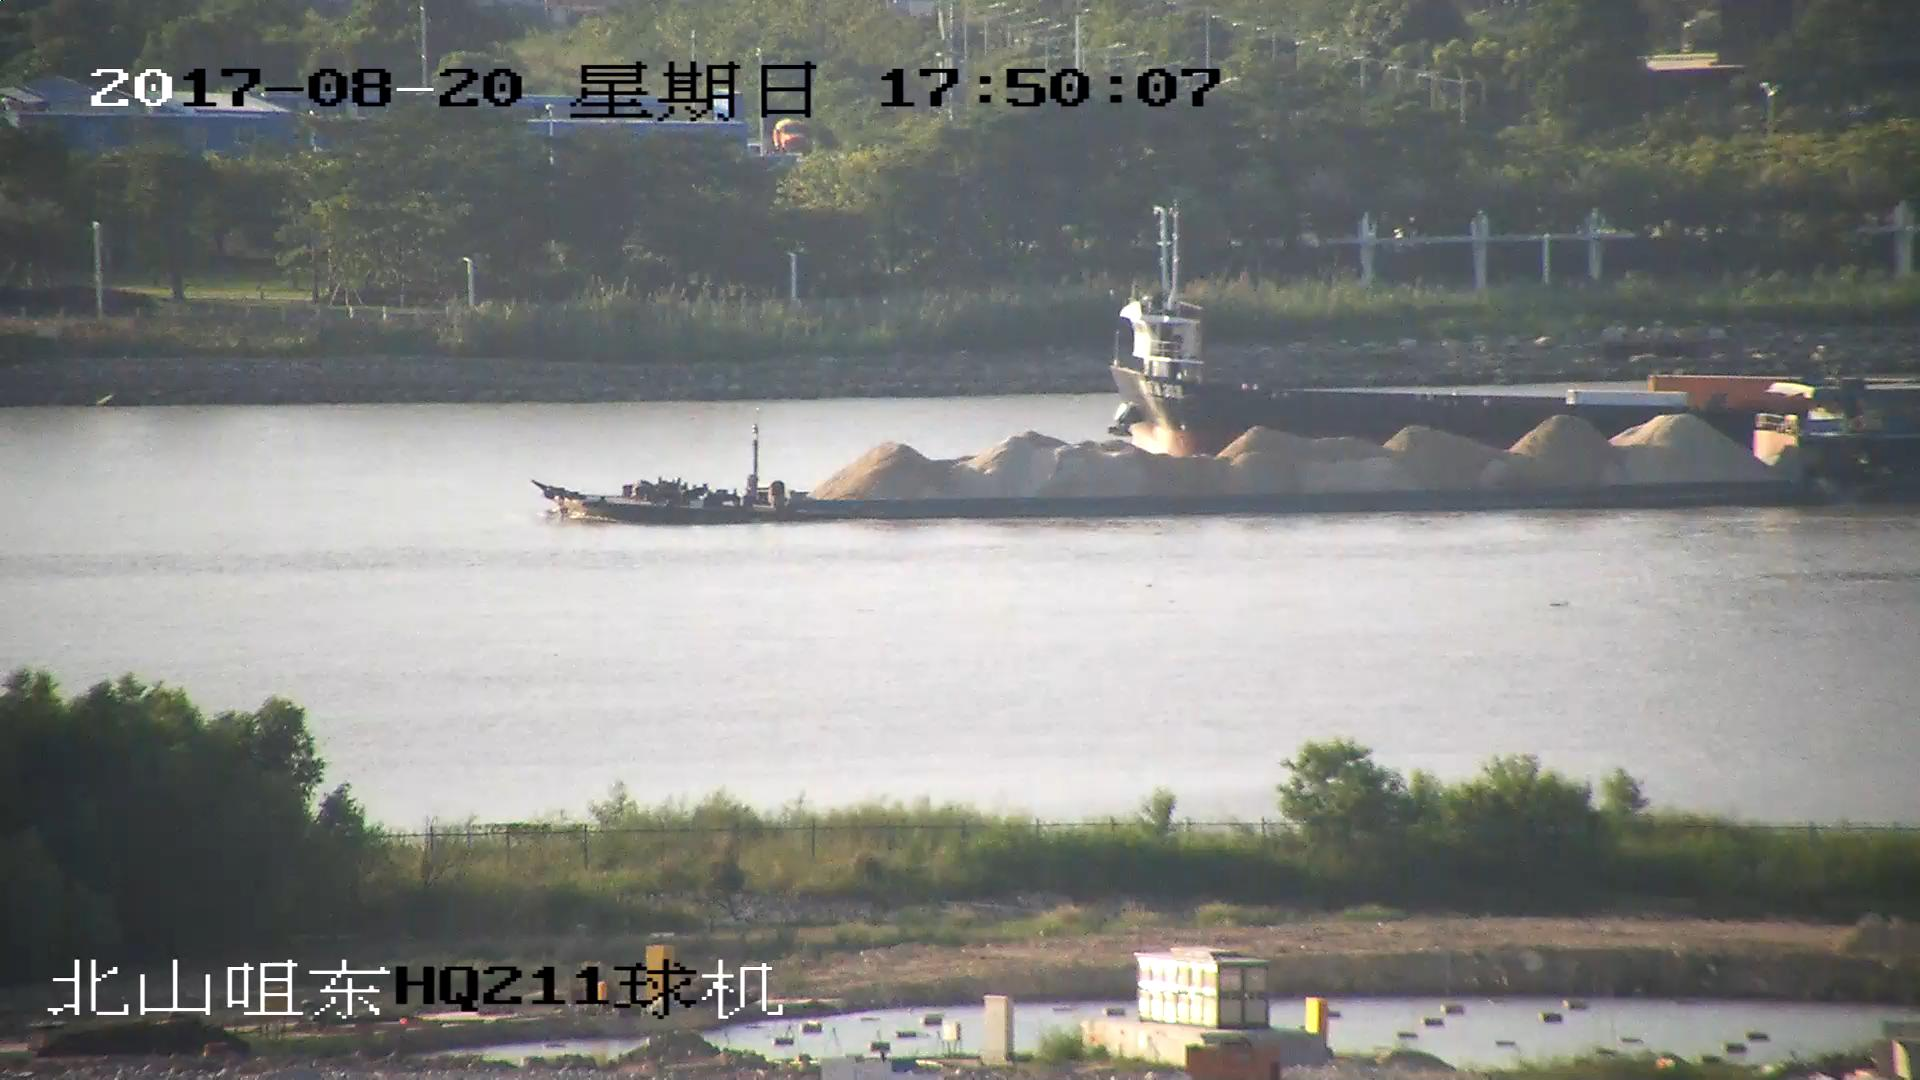general cargo ship: (1101, 205, 1920, 450)
ore carrier: (546, 380, 1920, 519)
